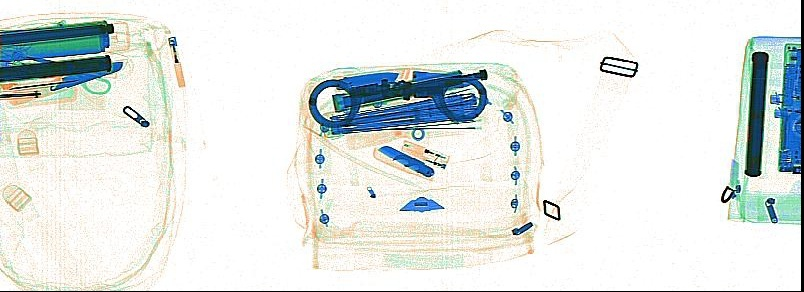handcuffs: (308, 74, 487, 128)
knife: (8, 60, 122, 105), (372, 143, 434, 181), (330, 67, 410, 93), (411, 68, 478, 89), (8, 77, 78, 90), (1, 90, 44, 100)
lighter: (399, 139, 449, 169), (167, 36, 185, 88)
pressure: (1, 21, 129, 61)
scissors: (25, 54, 114, 95)
